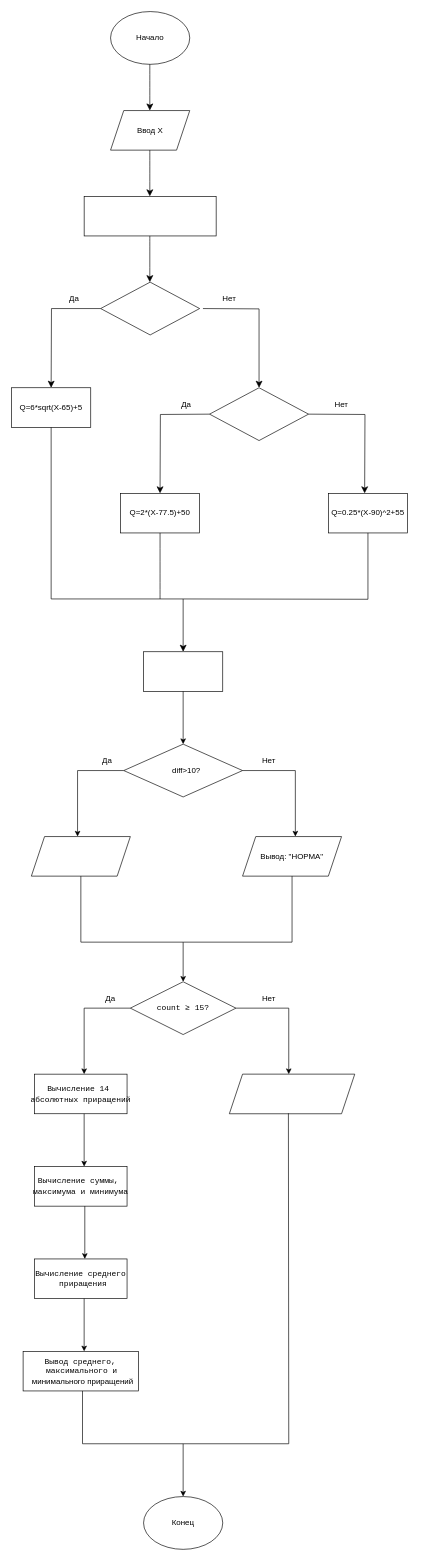
This 422x1561 diagram has some shape labels left out. The shapes that lost their labels are listed below. From the top down, each one's box as (x1, y1, x2, y2) in pixels, then its label:
(83, 196, 216, 236): resultQ=calculateIndicator(X)
(100, 281, 200, 335): X<65?
(209, 387, 309, 441): X<=90?
(143, 651, 223, 691): diff=|Q-50|
(31, 836, 130, 876): Вывод: "ТРЕВОГА"
(229, 1073, 355, 1114): Вывод: " Недостаточно данных для статистики"
